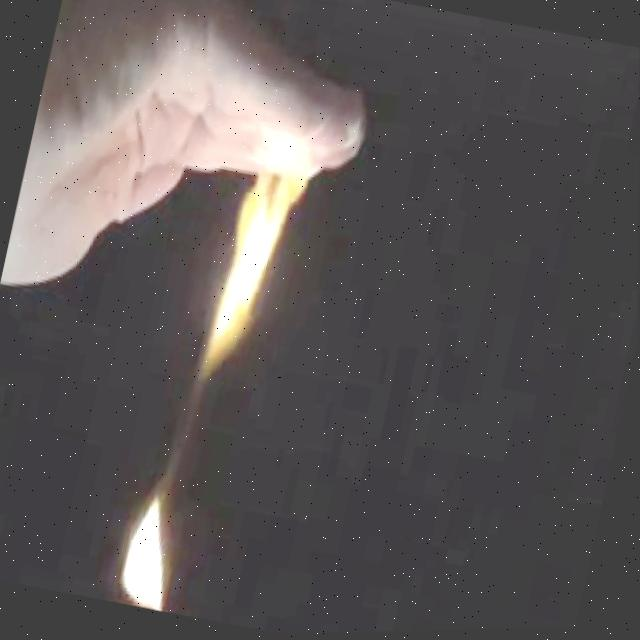Smoke: (187, 116, 318, 394)
